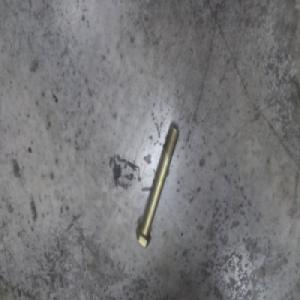Bolt: (138, 117, 181, 248)
